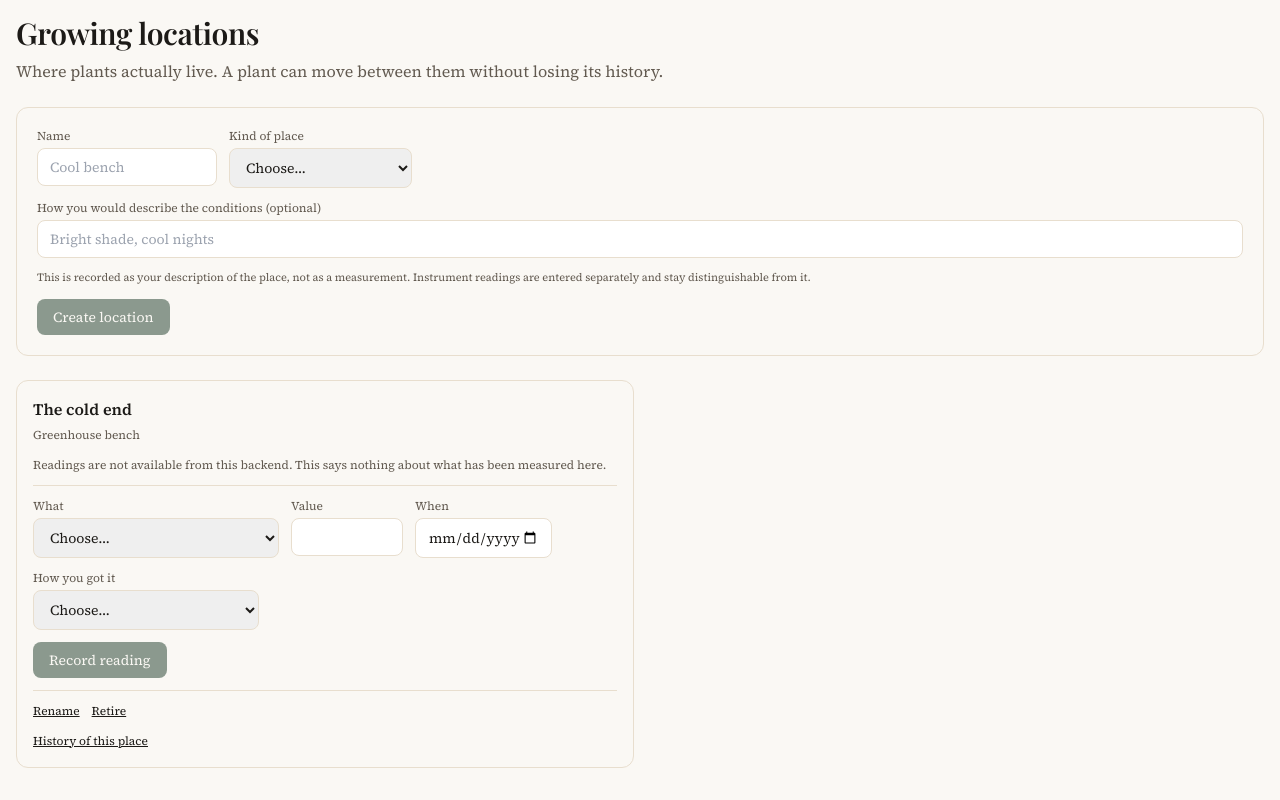
MyConservatory location history › reports a failure to load rather than showing an empty history
The width and height of the screenshot is (1280, 800).
(page scrolled)
Click the button "History of this place".
click(90, 740)  # box [33,732,148,748]
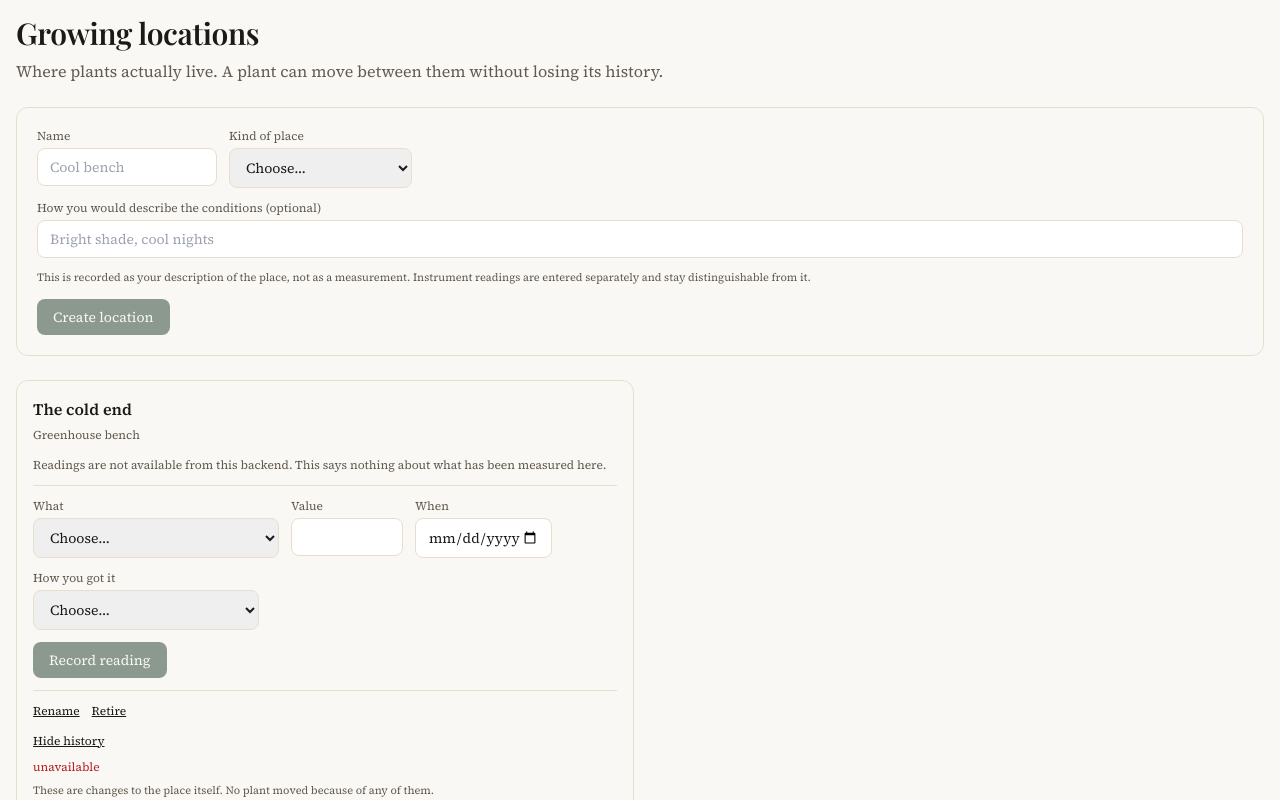
Expected: the message "unavailable" is shown, [33,758,100,774]
